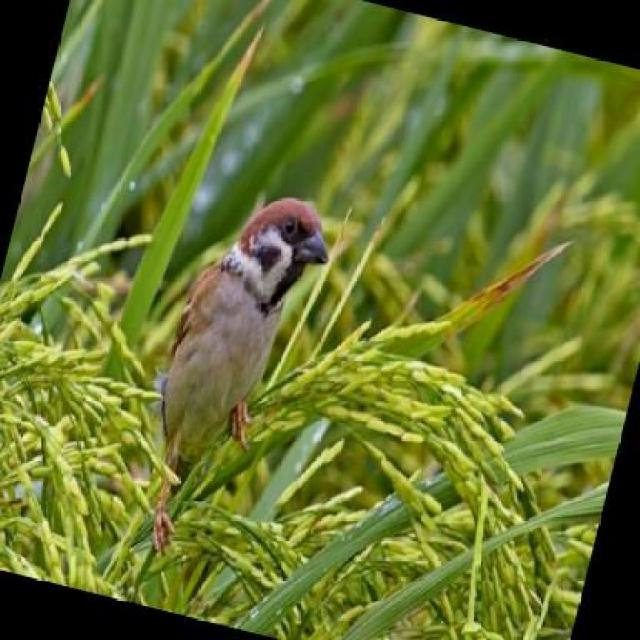Bird: (146, 193, 333, 562)
